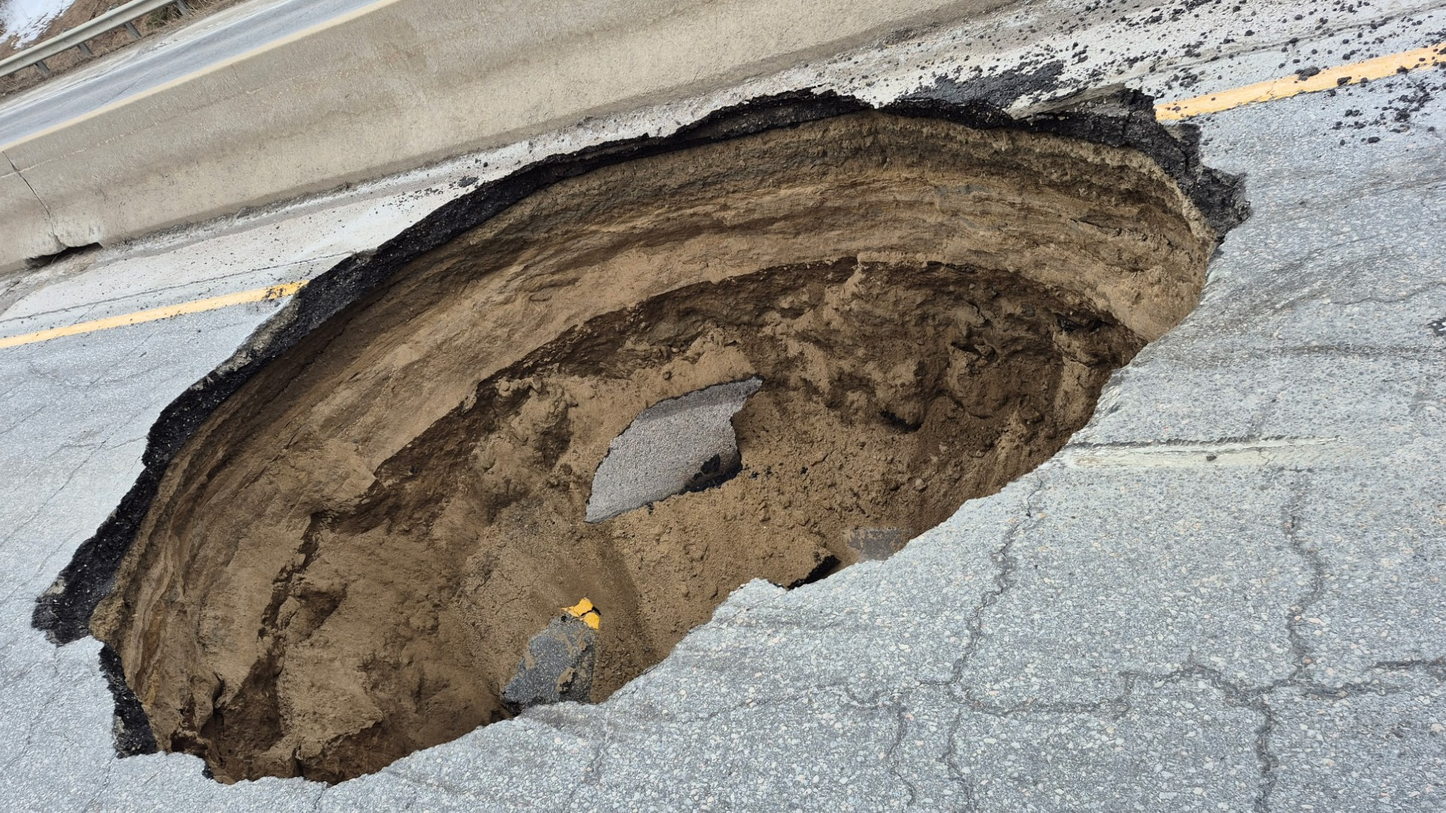Hole_in_the_road: (30, 78, 1280, 759)
